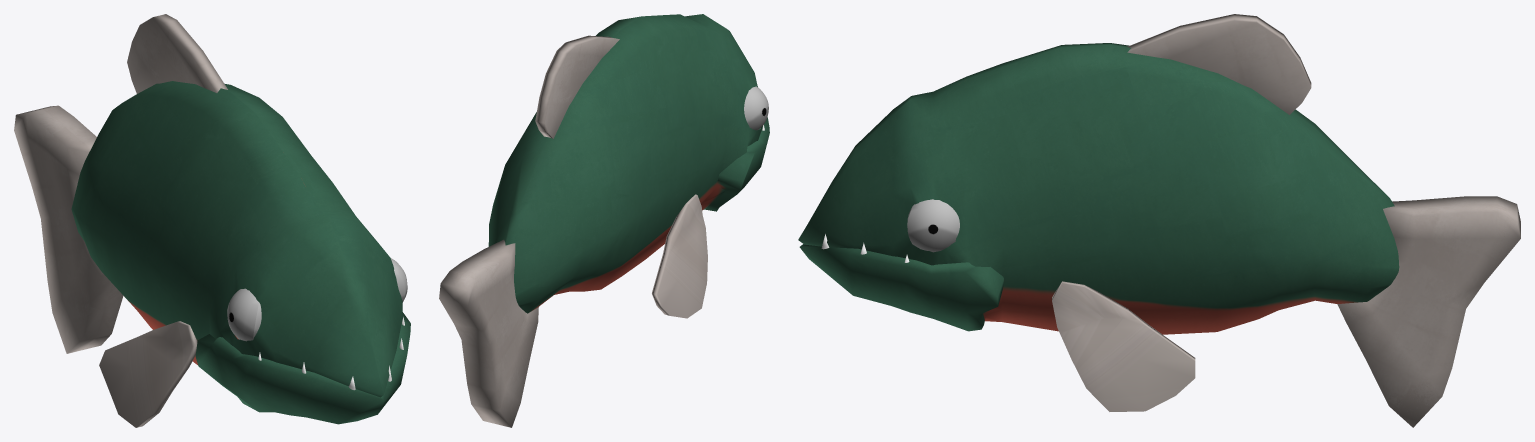
File: Peeranah.fbx
3 renders of one model, left to right at view 1: azimuth 30°, elevation 25°; view 2: azimuth 150°, elevation 25°; view 3: azimuth 270°, elevation 25°, orthographic. The views are drawn at different scales.
Parts seen in each view (by area): view 1: Body2; view 2: Body2; view 3: Body2.
Boxes of the visible parts, x1,y1,x2,y2 form: Body2: (14, 14, 410, 427); Body2: (439, 14, 769, 427); Body2: (798, 14, 1520, 427).
Bounding box in the file's own units: 8.59 × 16.7 × 27.26.
